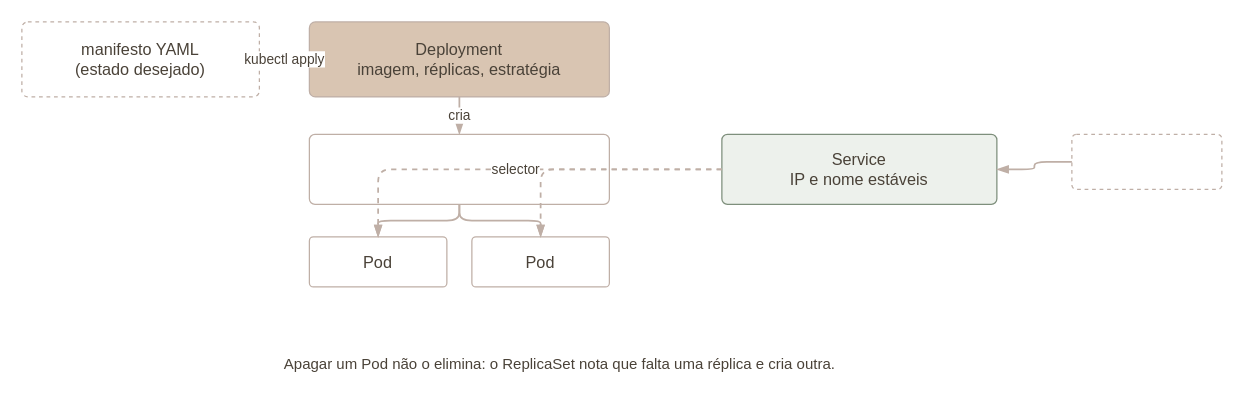
The diagram is 1244 pixels wide and 404 high, and some of its shapes have lost their labels. The box of each missing label's shape, as (x1, y1, x2, y2) in pixels:
cliente: (1071, 133, 1222, 189)
ReplicaSet garante N réplicas: (308, 133, 609, 204)
